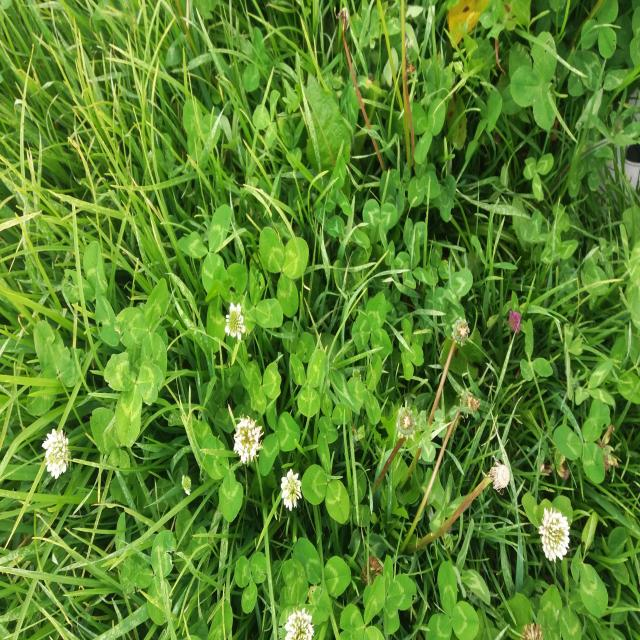Four Leaf Clover: (205, 264, 247, 353)
